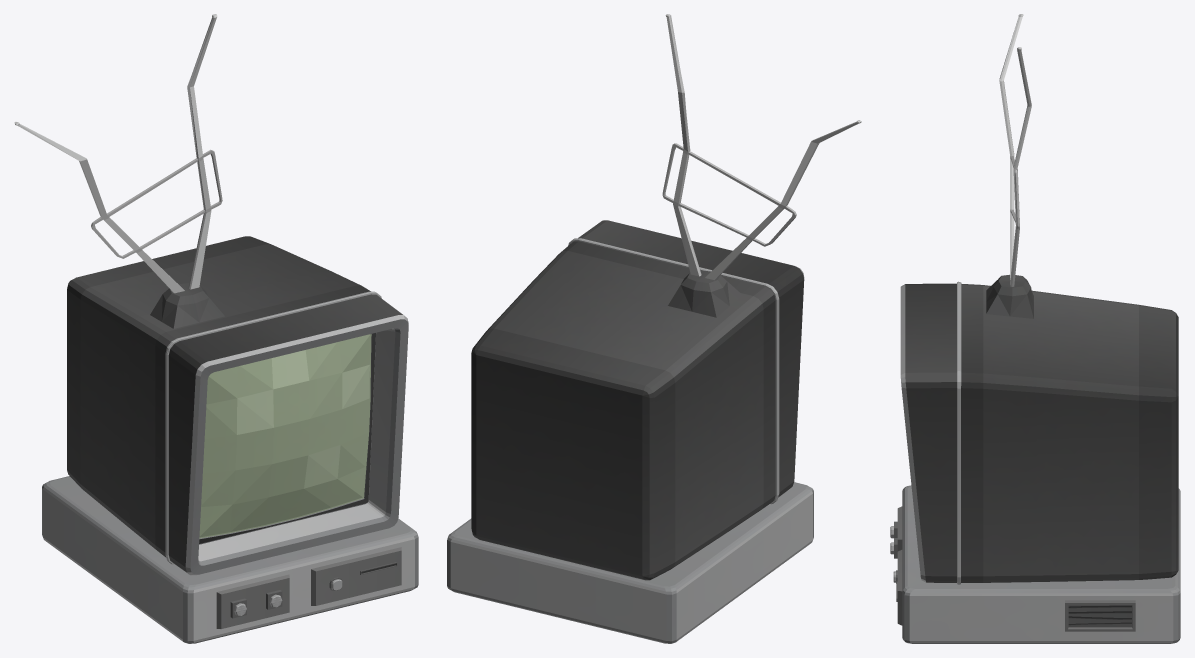
The picture shows the model from 3 angles, left to right: view 1: azimuth 30°, elevation 25°; view 2: azimuth 150°, elevation 25°; view 3: azimuth 270°, elevation 25°; orthographic projection. The views are drawn at different scales.
Parts seen in each view (by area): view 1: tv, tv_stand; view 2: tv, tv_stand; view 3: tv, tv_stand.
Boxes of the visible parts, bbox=[...] form: tv: bbox=[14, 14, 408, 575]; tv_stand: bbox=[42, 476, 418, 643]; tv: bbox=[471, 14, 861, 580]; tv_stand: bbox=[447, 482, 813, 643]; tv: bbox=[900, 14, 1178, 584]; tv_stand: bbox=[890, 485, 1180, 643].
Size of the model in its own units: 0.6661 by 0.51 by 1.03.
